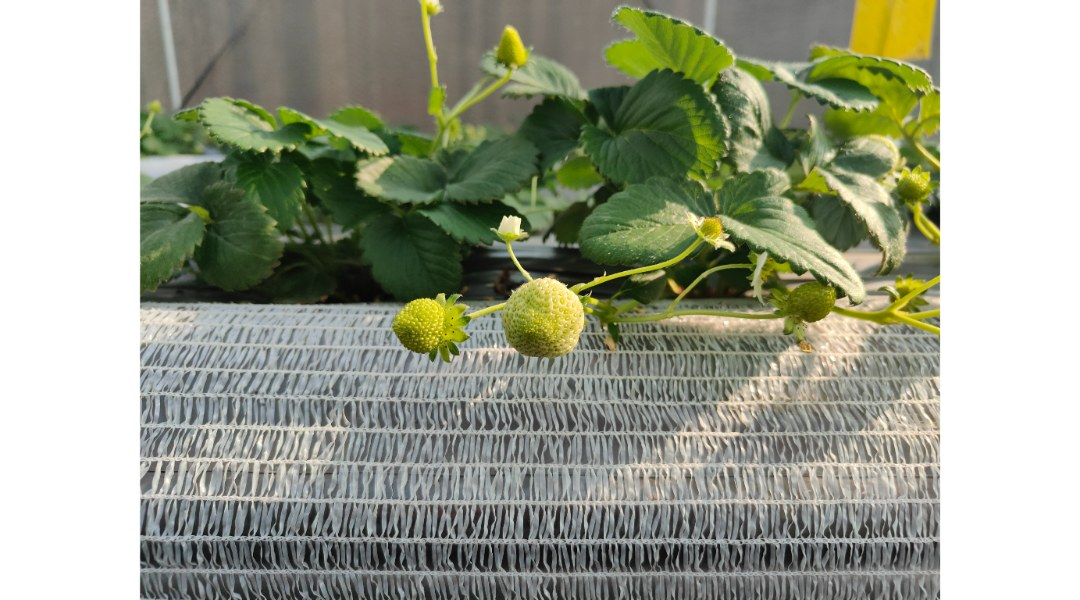berry: (494, 279, 592, 360), (389, 287, 474, 363), (770, 265, 850, 336)
flower: (688, 206, 736, 260), (488, 199, 525, 246)
strain: (571, 234, 702, 296), (623, 304, 783, 327), (674, 264, 752, 300)
